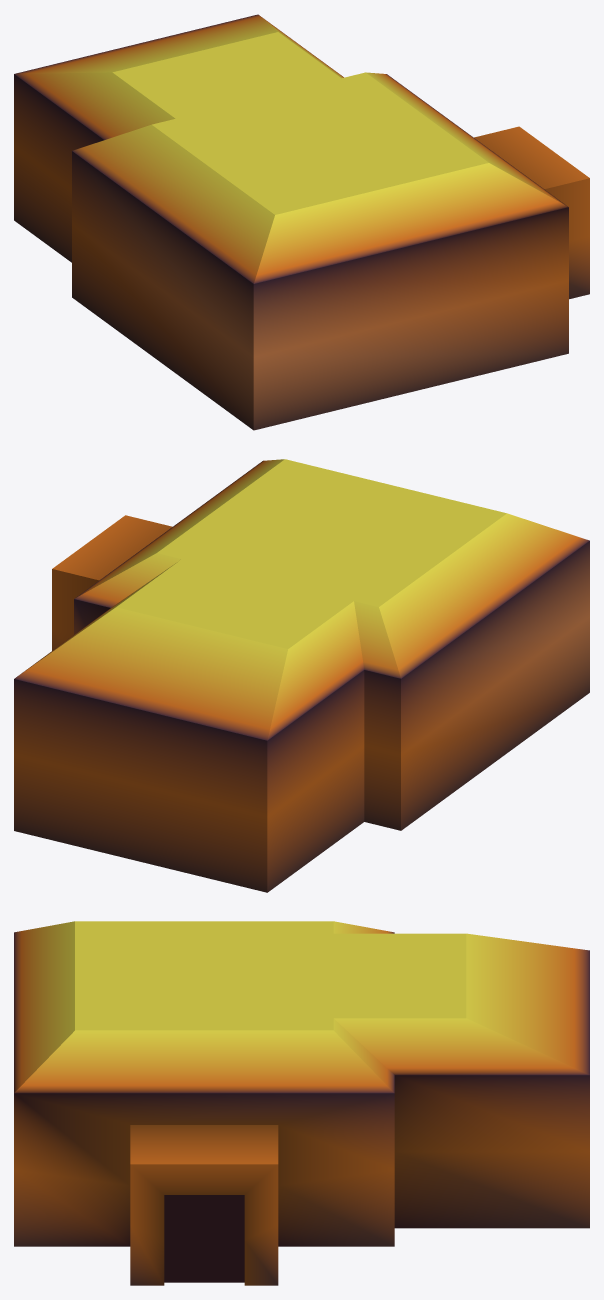
The model's file is restuarant.obj.
3 views of the same model, one above another, from view 1: azimuth 30°, elevation 25°; view 2: azimuth 150°, elevation 25°; view 3: azimuth 270°, elevation 25° (orthographic). The views are drawn at different scales.
Parts seen in each view (by area): view 1: restuarant; view 2: restuarant; view 3: restuarant.
Boxes of the visible parts, <box> form: restuarant: <box>14,14,589,430</box>; restuarant: <box>14,459,589,892</box>; restuarant: <box>14,921,589,1285</box>.
Bounding box in the file's own units: 16.8 × 7.45 × 20.44.
